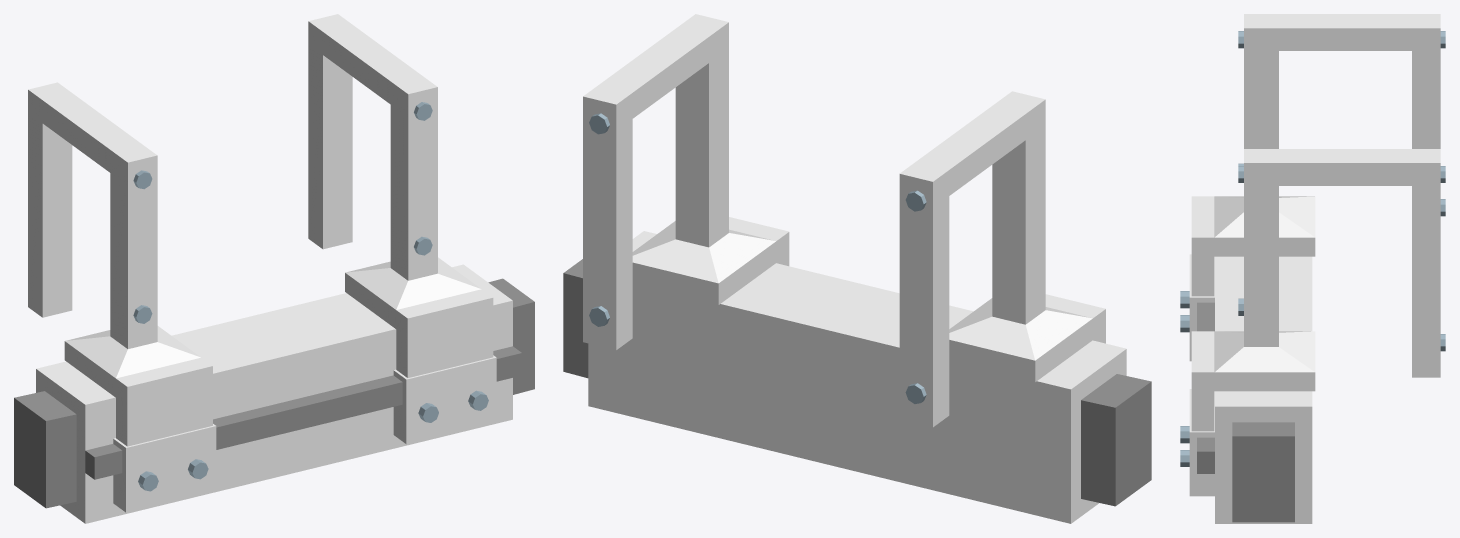
The model's file is LadderBox_01.fbx.
The picture shows the model from 3 angles, left to right: view 1: azimuth 30°, elevation 25°; view 2: azimuth 150°, elevation 25°; view 3: azimuth 270°, elevation 25°; orthographic projection. The views are drawn at different scales.
Visible parts, largest first — view 1: Ladder_Box_01, Cube, Cube.001; view 2: Ladder_Box_01, Cube.001, Cube; view 3: Cube, Cube.001, Ladder_Box_01.
Boxes of the visible parts, x1=… form: Ladder_Box_01: x1=14, y1=264, x2=534, y2=523; Cube: x1=308, y1=14, x2=496, y2=444; Cube.001: x1=28, y1=82, x2=216, y2=512; Ladder_Box_01: x1=563, y1=231, x2=1151, y2=523; Cube.001: x1=899, y1=91, x2=1105, y2=427; Cube: x1=583, y1=14, x2=789, y2=350; Cube: x1=1180, y1=149, x2=1445, y2=496; Cube.001: x1=1180, y1=14, x2=1445, y2=361; Ladder_Box_01: x1=1197, y1=256, x2=1312, y2=523.
Bounding box in the file's own units: 89.89 × 59.15 × 42.89.
